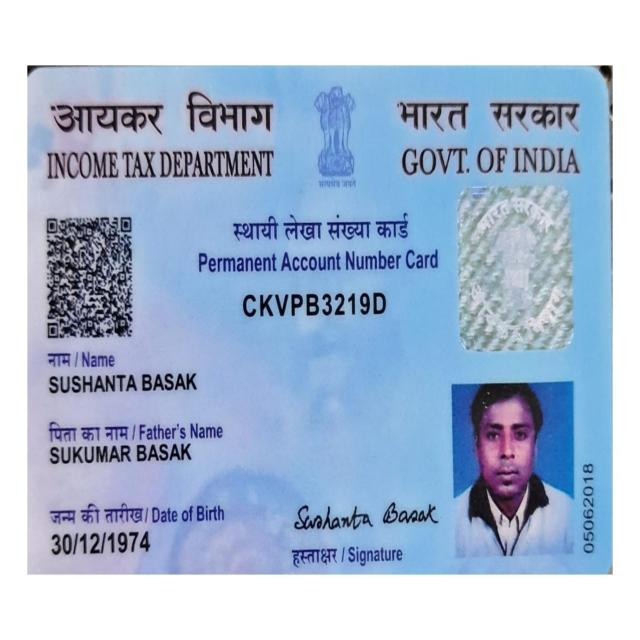pan_card: (30, 73, 611, 576)
